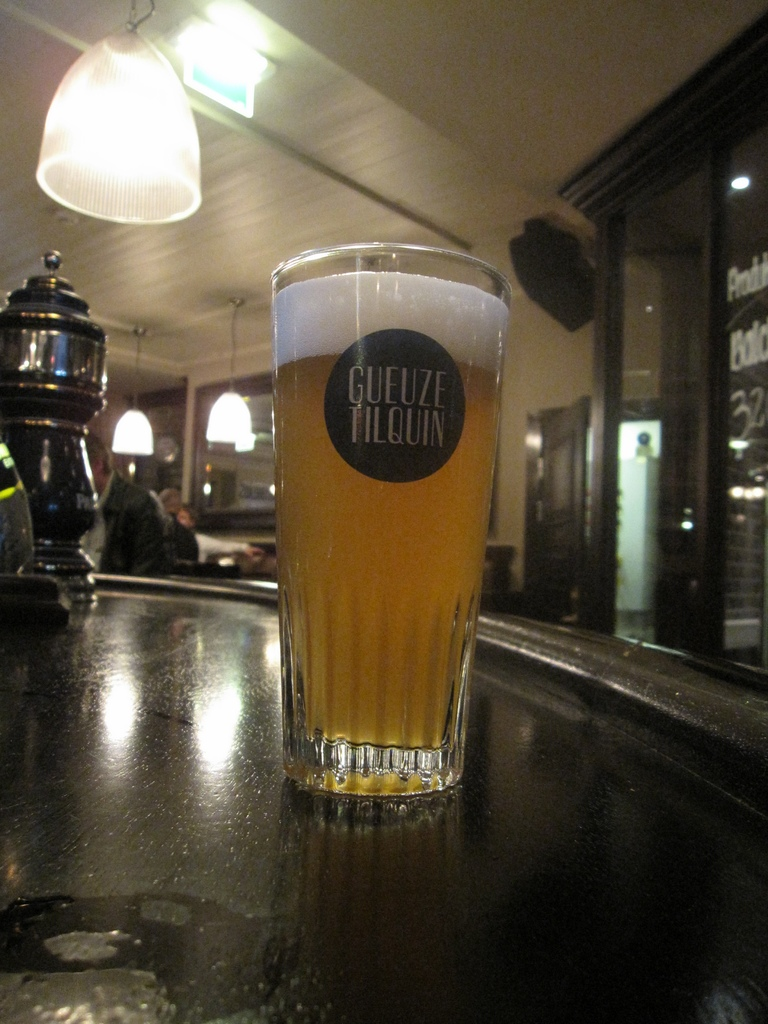Beer: (252, 241, 515, 812)
